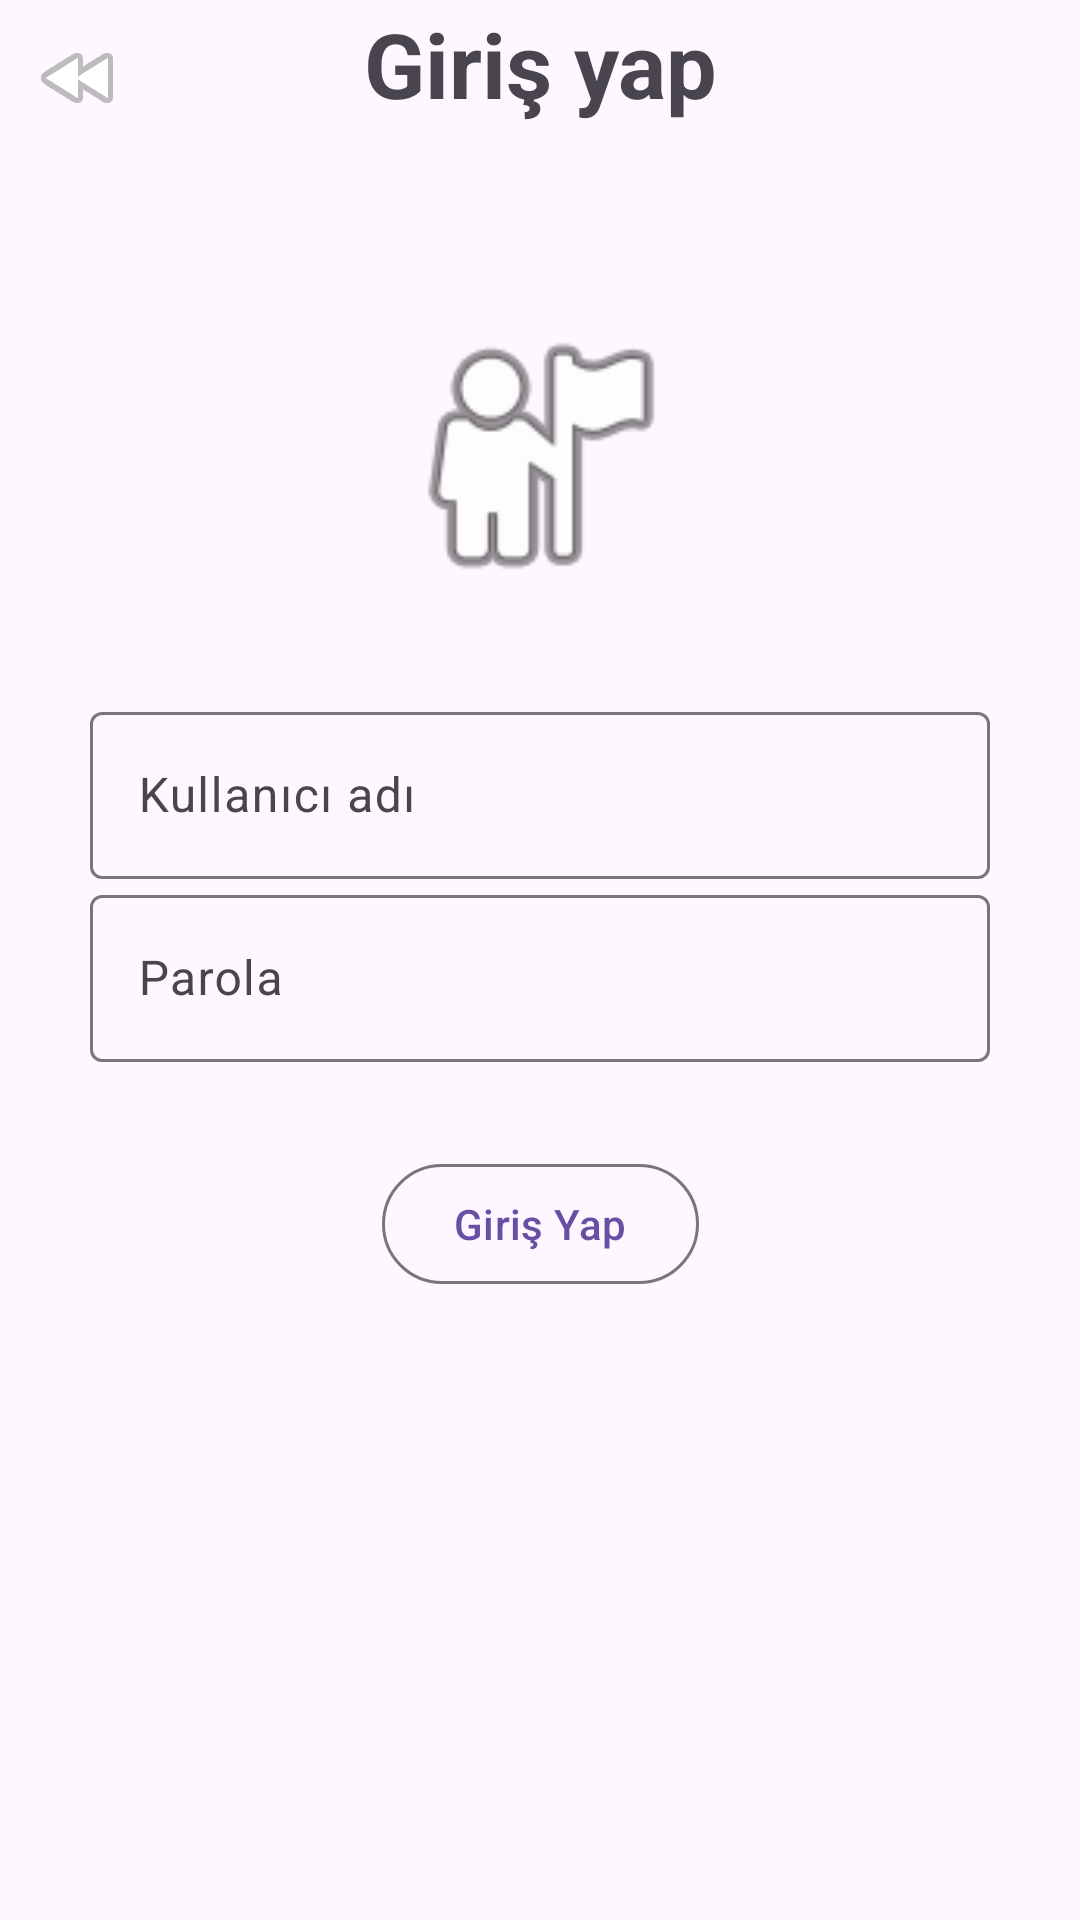

Icon bounding boxes for this 1080 × 1920 phone screenshot, format (x1, y1, x2, y2):
myplaces: (428, 344, 654, 568)
rew: (41, 53, 113, 103)
